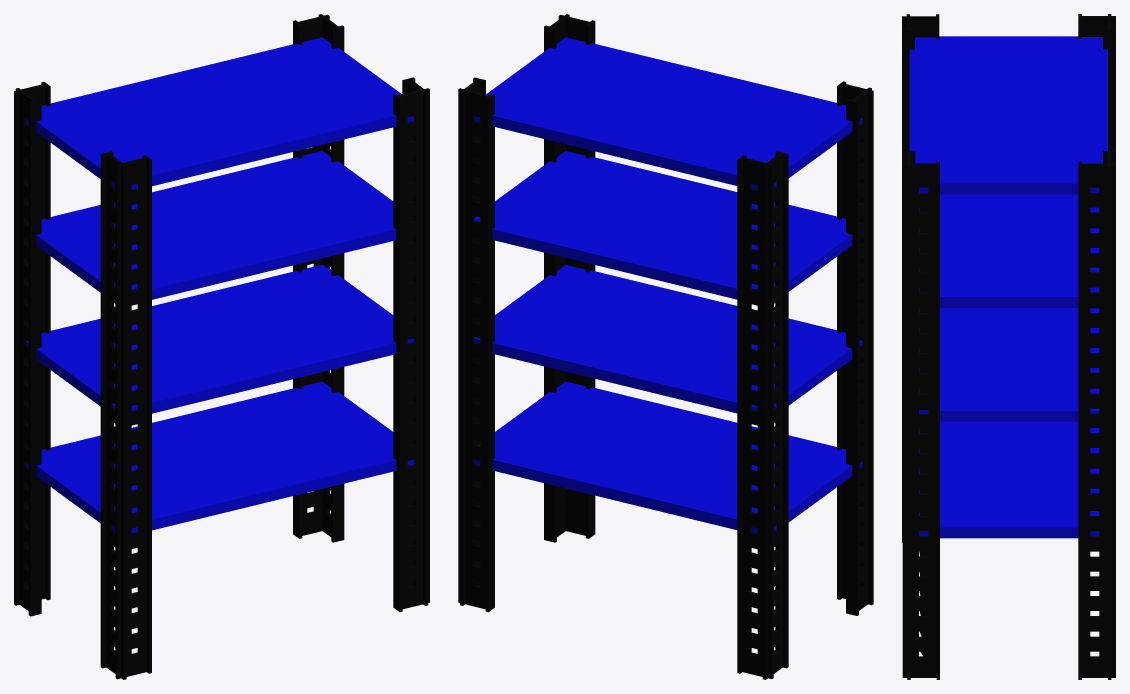
Rendered from estanteria.fbx.
The picture shows the model from 3 angles, left to right: view 1: azimuth 30°, elevation 25°; view 2: azimuth 150°, elevation 25°; view 3: azimuth 270°, elevation 25°; orthographic projection.
Parts seen in each view (by area): view 1: group10_pasted__pCube1; view 2: group10_pasted__pCube1; view 3: group10_pasted__pCube1.
Part boxes in pixels (x1,y1,x2,y2): group10_pasted__pCube1: (14, 14, 429, 679); group10_pasted__pCube1: (458, 14, 873, 679); group10_pasted__pCube1: (902, 14, 1115, 679).
Size of the model in its own units: 0.0328 by 0.0513 by 0.0194.
